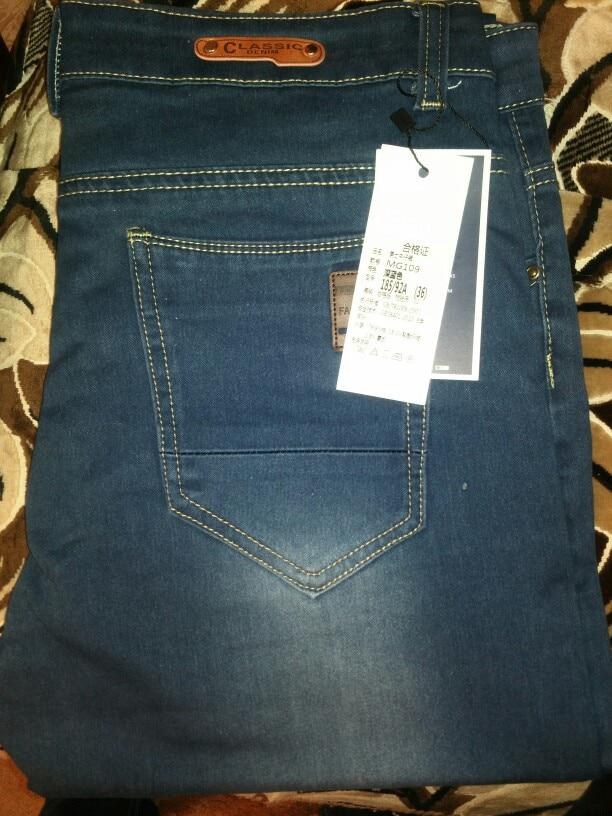jeans: (32, 10, 598, 774)
